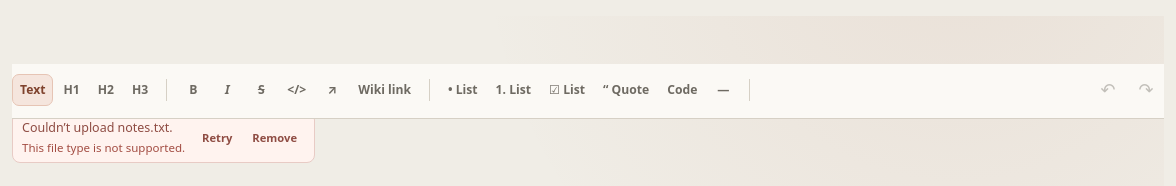
Scenario: PageEditor › shows an upload error and retries without changing document content
Expected: the message shows "This file type is not supported.", [22,140,185,155]
Click the button with aria-label "Retry upload notes.txt": point(217, 138) [194,124,240,151]
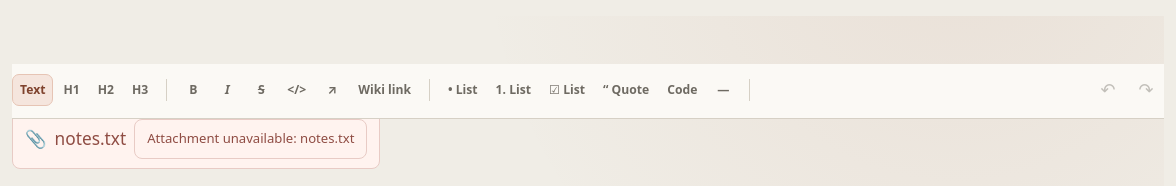
Now the link with class "asset-attachment-node" is shown, box [12,109,380,169]
